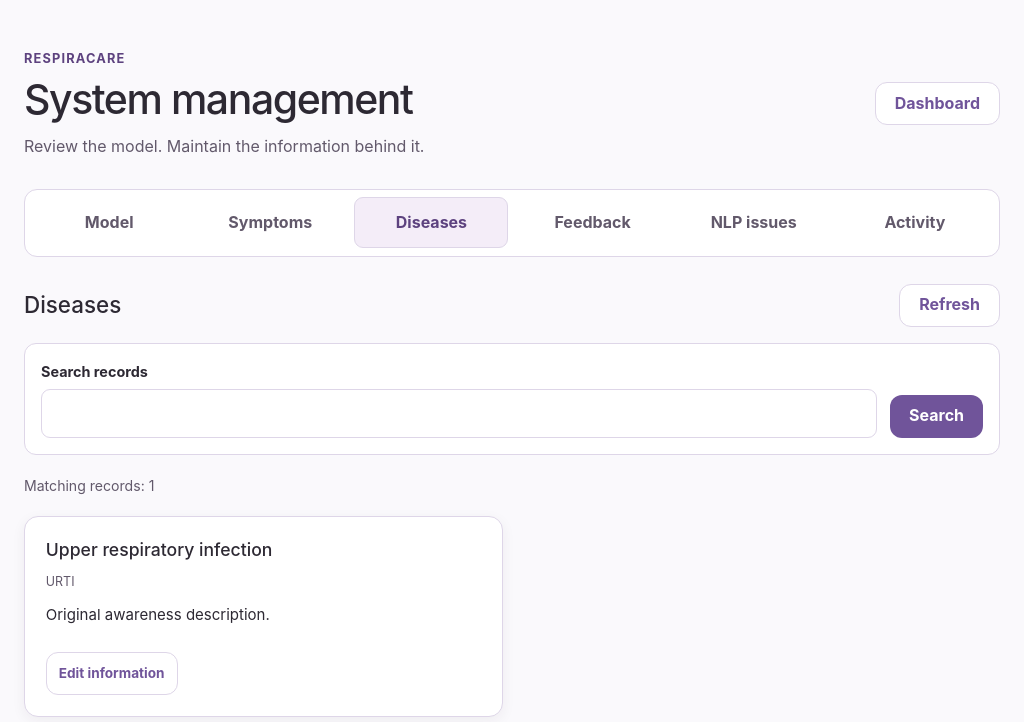
it: administrator system management › saves disease descriptions without changing the condition identity
Click the button "Edit information": (112, 674) [46,652,178,695]
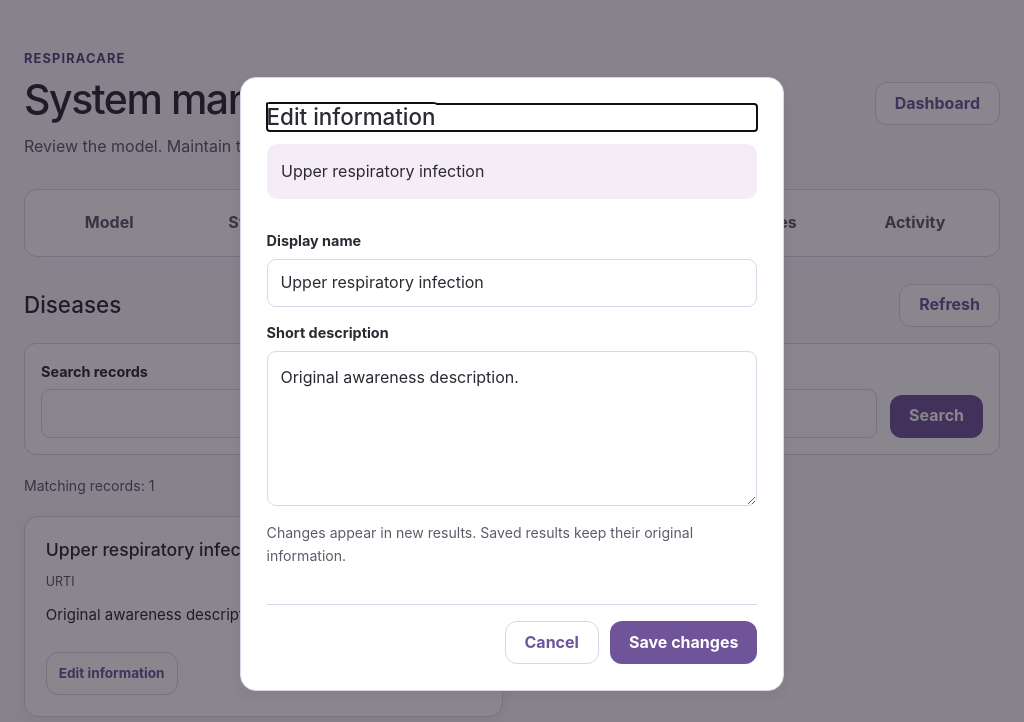
Replace the text in the field labelled "Display name" with "Updated title": (512, 283) [267,259,757,307]
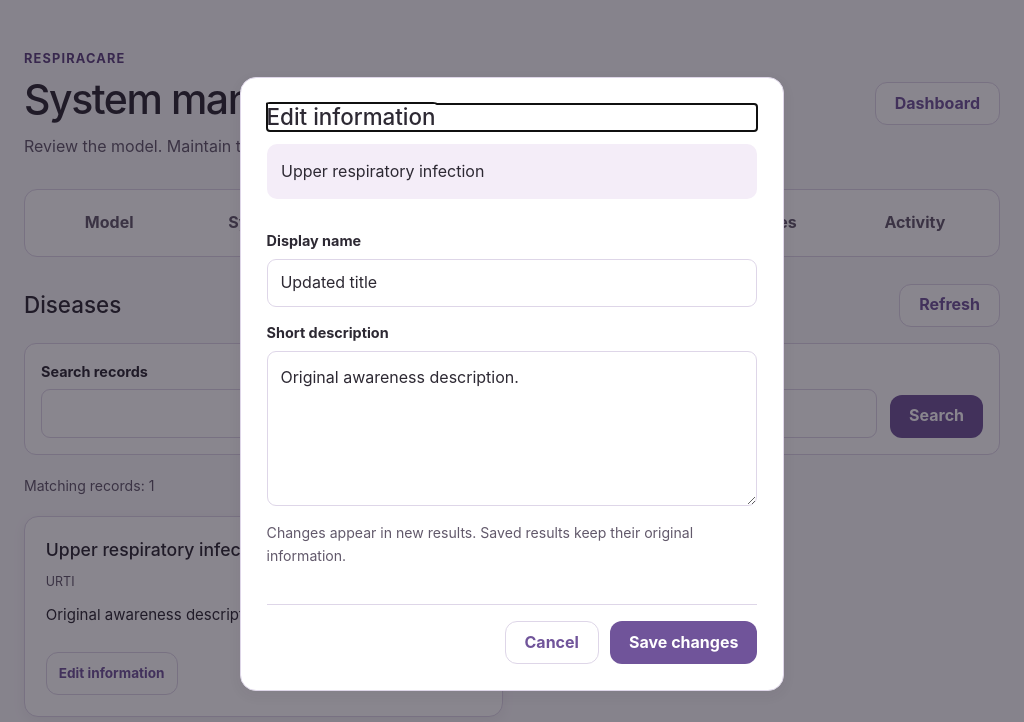
Replace the text in the text box labelled "Short description" with "Updated awareness information.": (512, 429) [267,351,757,506]
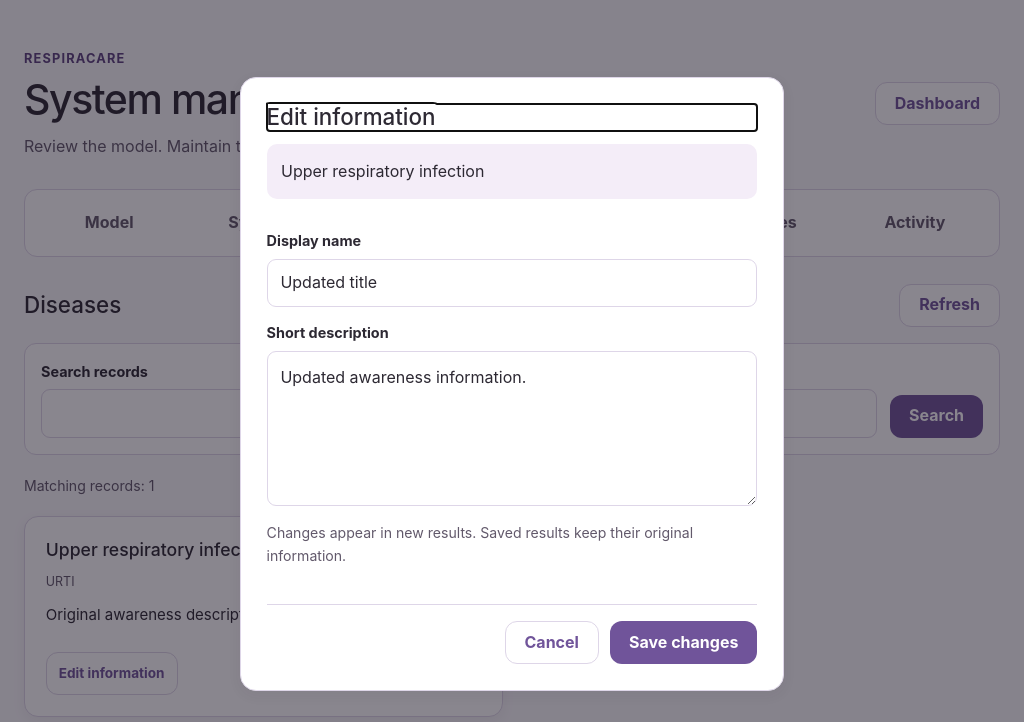
Click the button "Save changes": (684, 642) [610,621,757,664]
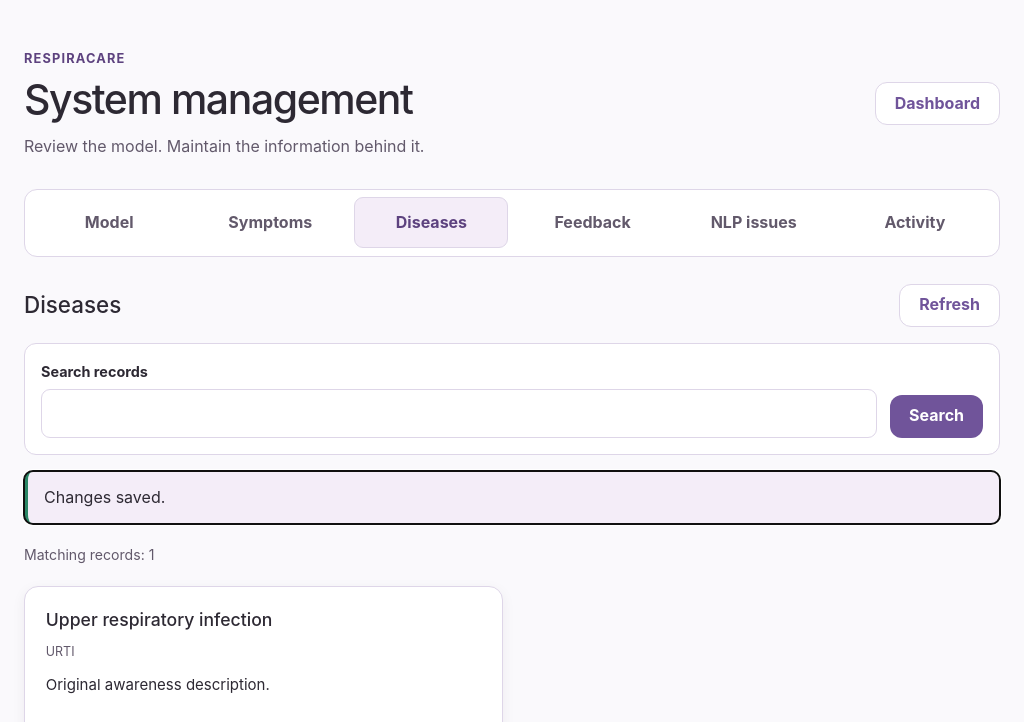
Expected: the text "Changes saved." is shown, [24,471,1000,524]
